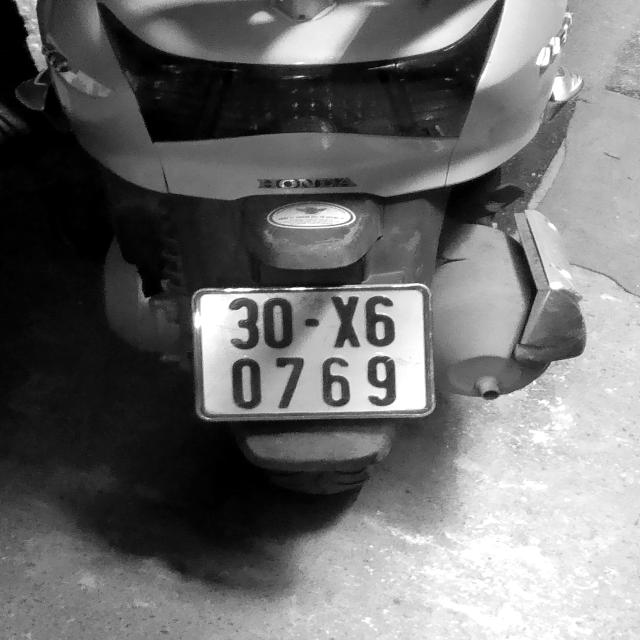license_plate: (197, 285, 432, 418)
